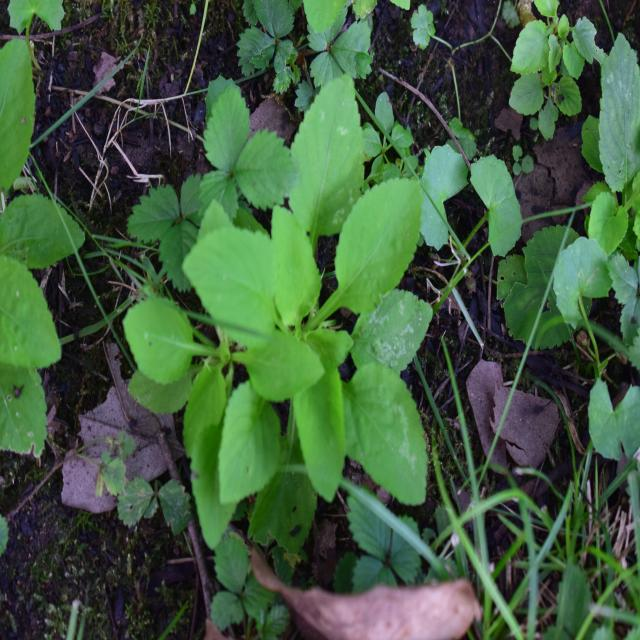Viola: (172, 115, 428, 494)
